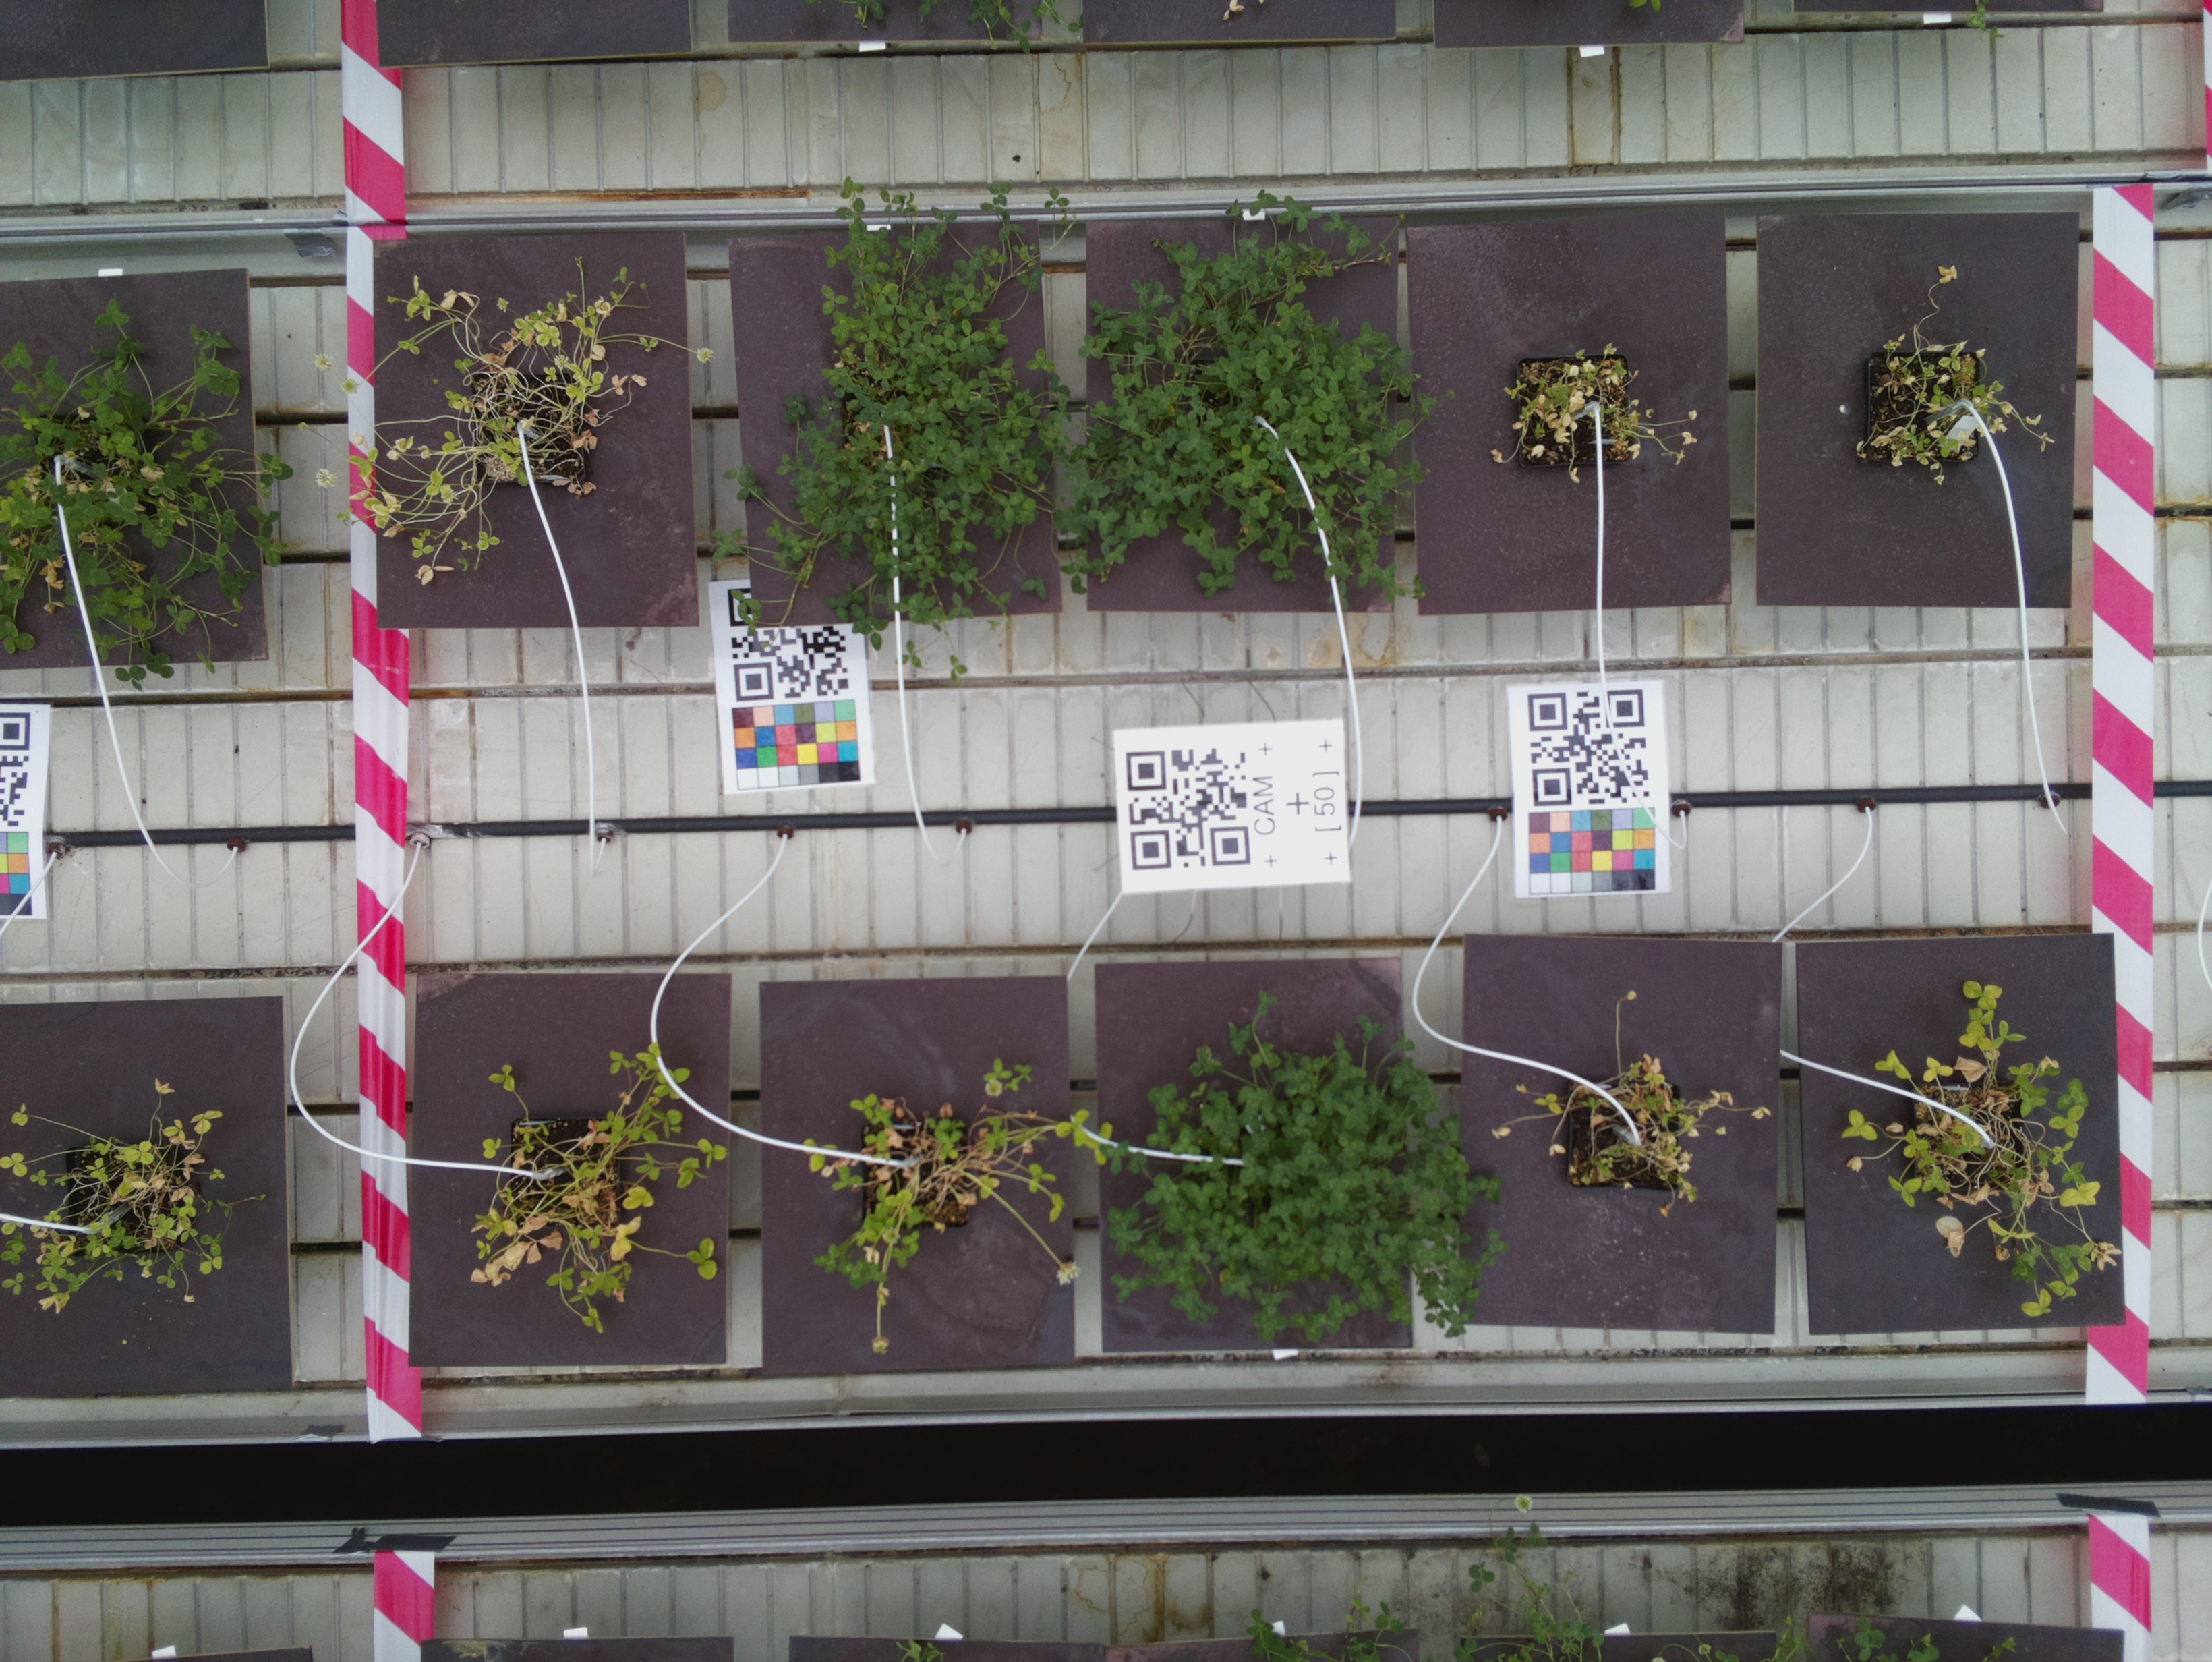POT: (1463, 934, 1783, 1339), (1795, 941, 2123, 1325), (1411, 223, 1735, 611), (1096, 958, 1412, 1353), (374, 239, 697, 623), (417, 974, 730, 1369), (1084, 218, 1393, 613), (730, 234, 1044, 616), (1755, 216, 2062, 606), (759, 981, 1068, 1363)
QRCODE: (1110, 721, 1355, 899)
QRCOLOR: (1505, 681, 1678, 903), (719, 628, 878, 796)
